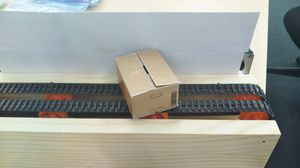box1: (113, 46, 180, 120)
